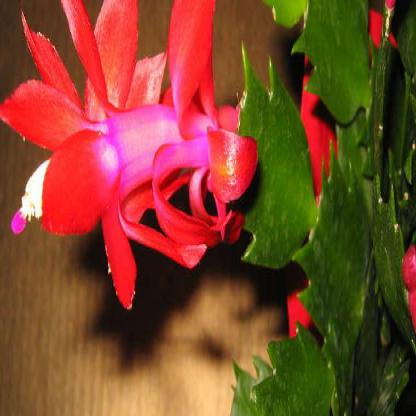Aglonema: (13, 70, 416, 321)
